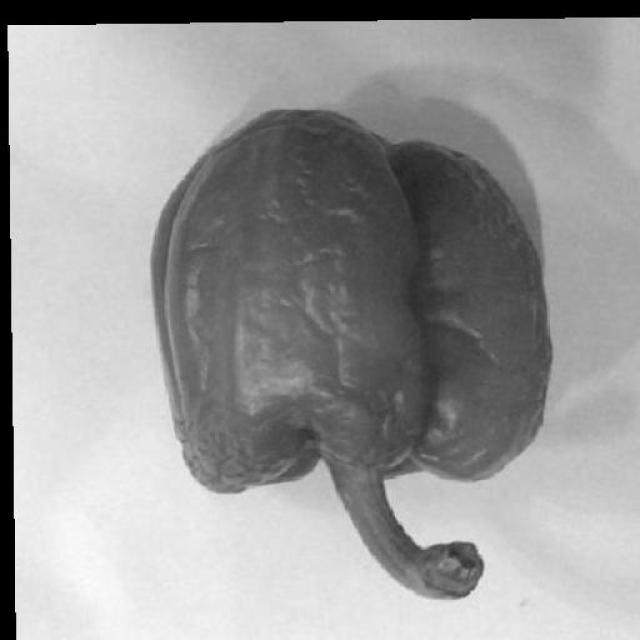Stale_Capsicum: (146, 88, 543, 600)
